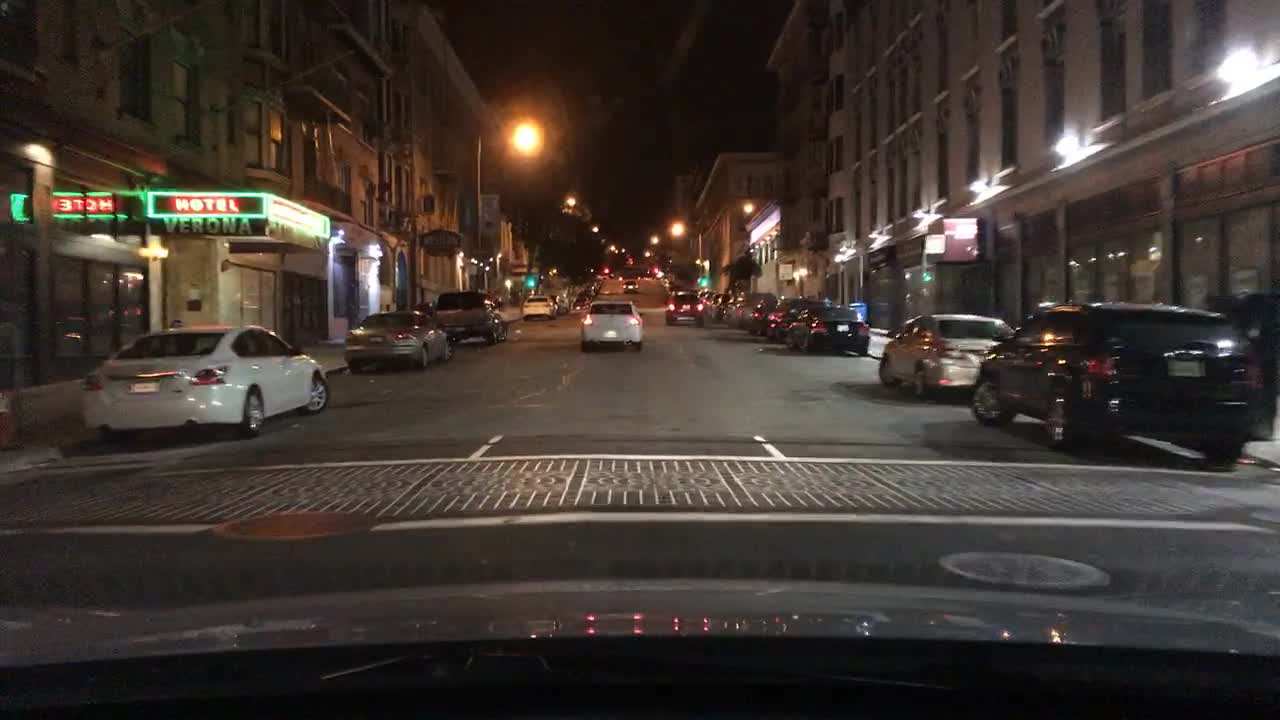car: (967, 299, 1262, 471), (81, 322, 333, 439), (878, 313, 1013, 401), (341, 307, 450, 373), (788, 303, 869, 352), (435, 290, 506, 345), (576, 299, 642, 351), (762, 294, 806, 338), (734, 291, 776, 334), (661, 287, 705, 327), (520, 294, 558, 322), (776, 301, 808, 334), (551, 290, 576, 320), (724, 291, 746, 322), (708, 292, 729, 319), (699, 291, 718, 315), (618, 278, 644, 292), (692, 289, 715, 301)
traffic light: (697, 273, 713, 287), (647, 267, 665, 279), (600, 262, 613, 276), (527, 275, 536, 289)
